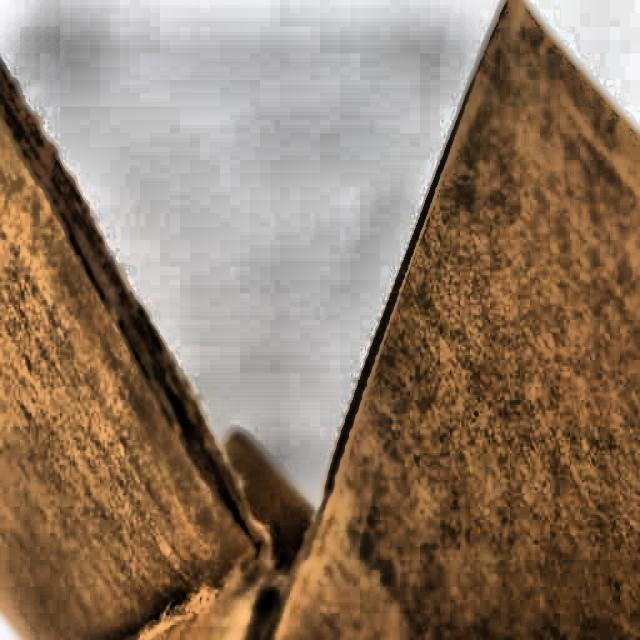cardboard: (257, 0, 638, 638), (0, 0, 285, 638)
